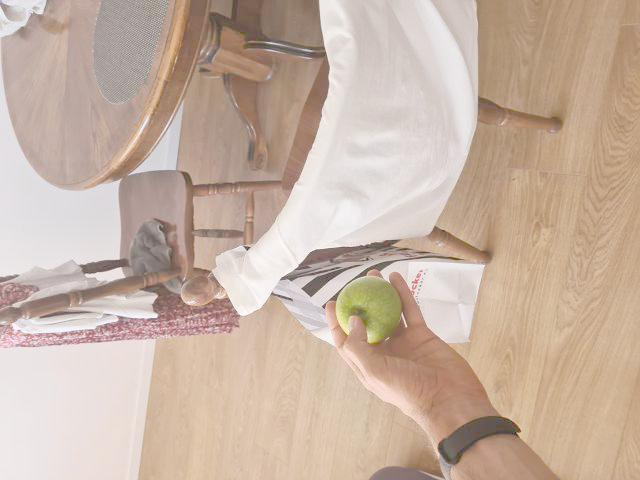apple: (336, 279, 399, 338)
